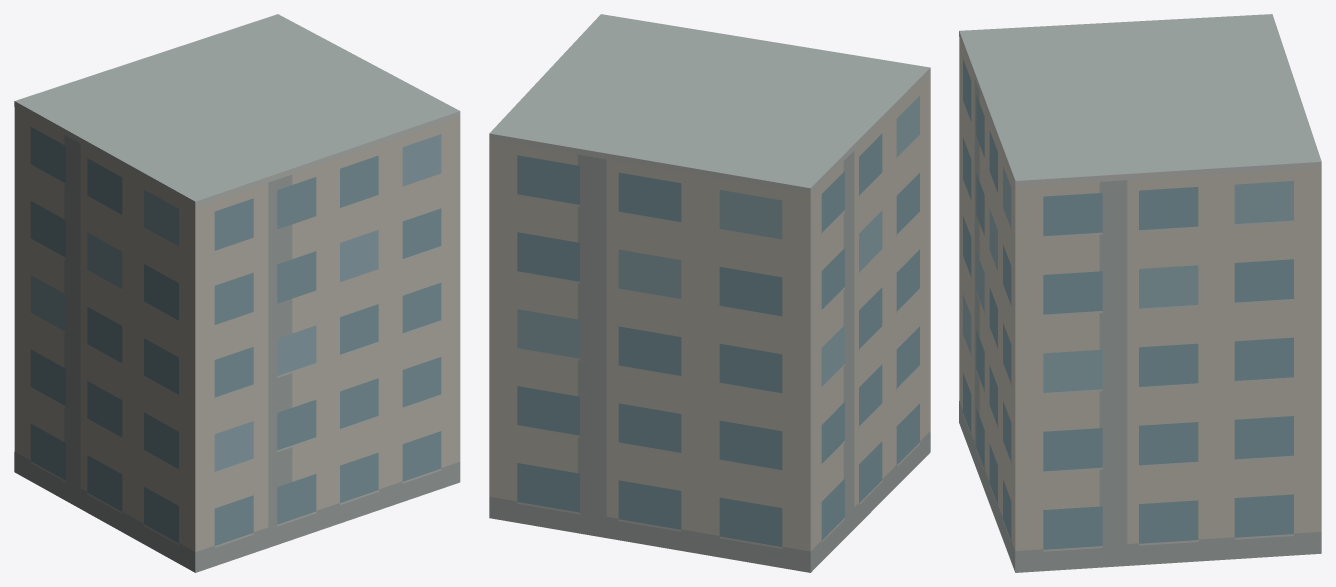
Rendered from survey-upis-32577184.glb.
3 views of the same model, side by side, from view 1: azimuth 30°, elevation 25°; view 2: azimuth 150°, elevation 25°; view 3: azimuth 270°, elevation 25° (orthographic). The views are drawn at different scales.
Parts seen in each view (by area): view 1: survey-upis-32577184.tmp; view 2: survey-upis-32577184.tmp; view 3: survey-upis-32577184.tmp.
Part boxes in pixels (left/top/right/bottom): survey-upis-32577184.tmp: left=14, top=14, right=460, bottom=572; survey-upis-32577184.tmp: left=489, top=14, right=930, bottom=572; survey-upis-32577184.tmp: left=959, top=14, right=1321, bottom=572.
Size of the model in its own units: 14.13 by 15.45 by 12.96.
